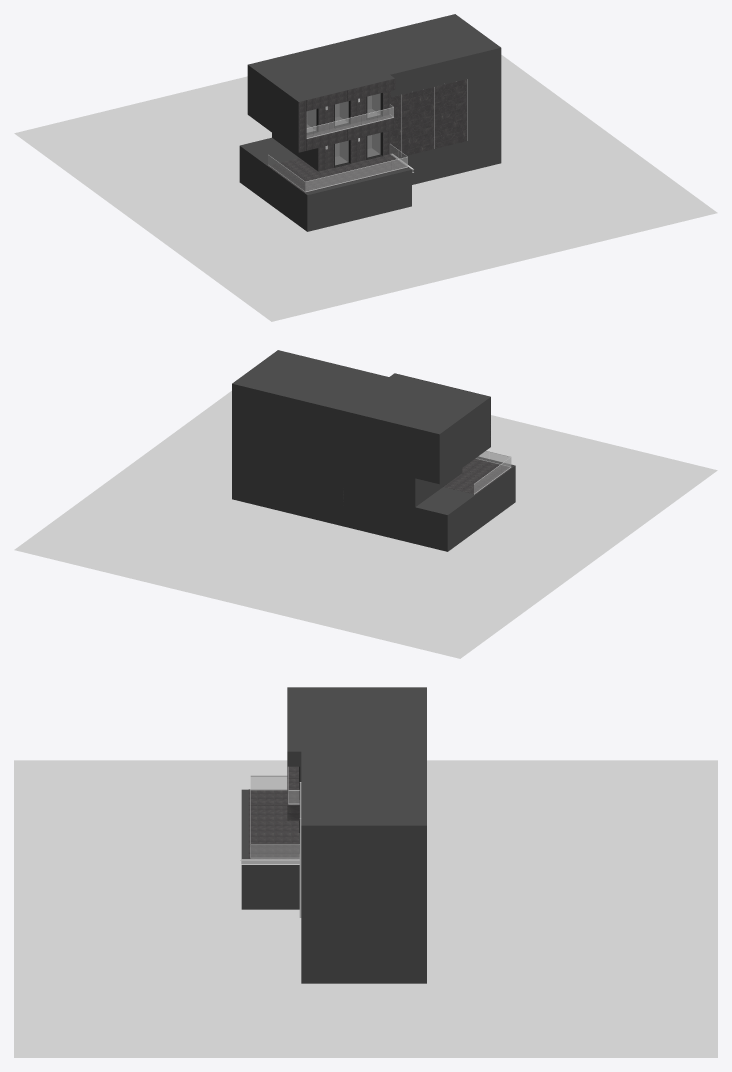
The model's file is EscenaTXT-transformed.glb.
3 renders of one model, top to bottom at view 1: azimuth 30°, elevation 25°; view 2: azimuth 150°, elevation 25°; view 3: azimuth 270°, elevation 25°, orthographic. The views are drawn at different scales.
Parts seen in each view (by area): view 1: LUCECITAS, CARCASA_EDIFICIO, PIEZA_001, CRISTALES_BARANDILLAS, PERFIL_001, VENTANAS; view 2: LUCECITAS, CARCASA_EDIFICIO, PIEZA_001, CRISTALES_BARANDILLAS; view 3: LUCECITAS, CARCASA_EDIFICIO, PIEZA_001, CRISTALES_BARANDILLAS, PERFIL_001.
Part boxes in pixels (box(x1,y1,x2,y2)): LUCECITAS: box(14, 55, 717, 321); CARCASA_EDIFICIO: box(239, 14, 501, 231); PIEZA_001: box(268, 78, 466, 192); CRISTALES_BARANDILLAS: box(268, 93, 407, 191); PERFIL_001: box(268, 79, 467, 192); VENTANAS: box(306, 93, 382, 167); LUCECITAS: box(14, 391, 717, 658); CARCASA_EDIFICIO: box(232, 350, 515, 551); PIEZA_001: box(395, 373, 512, 494); CRISTALES_BARANDILLAS: box(474, 451, 511, 493); LUCECITAS: box(14, 760, 717, 1057); CARCASA_EDIFICIO: box(241, 687, 426, 983); PIEZA_001: box(248, 766, 299, 859); CRISTALES_BARANDILLAS: box(250, 776, 299, 857); PERFIL_001: box(240, 767, 301, 917).
Size of the model in its own units: 50 by 12.39 by 50.
Materials: 22 (18 with a texture image).
